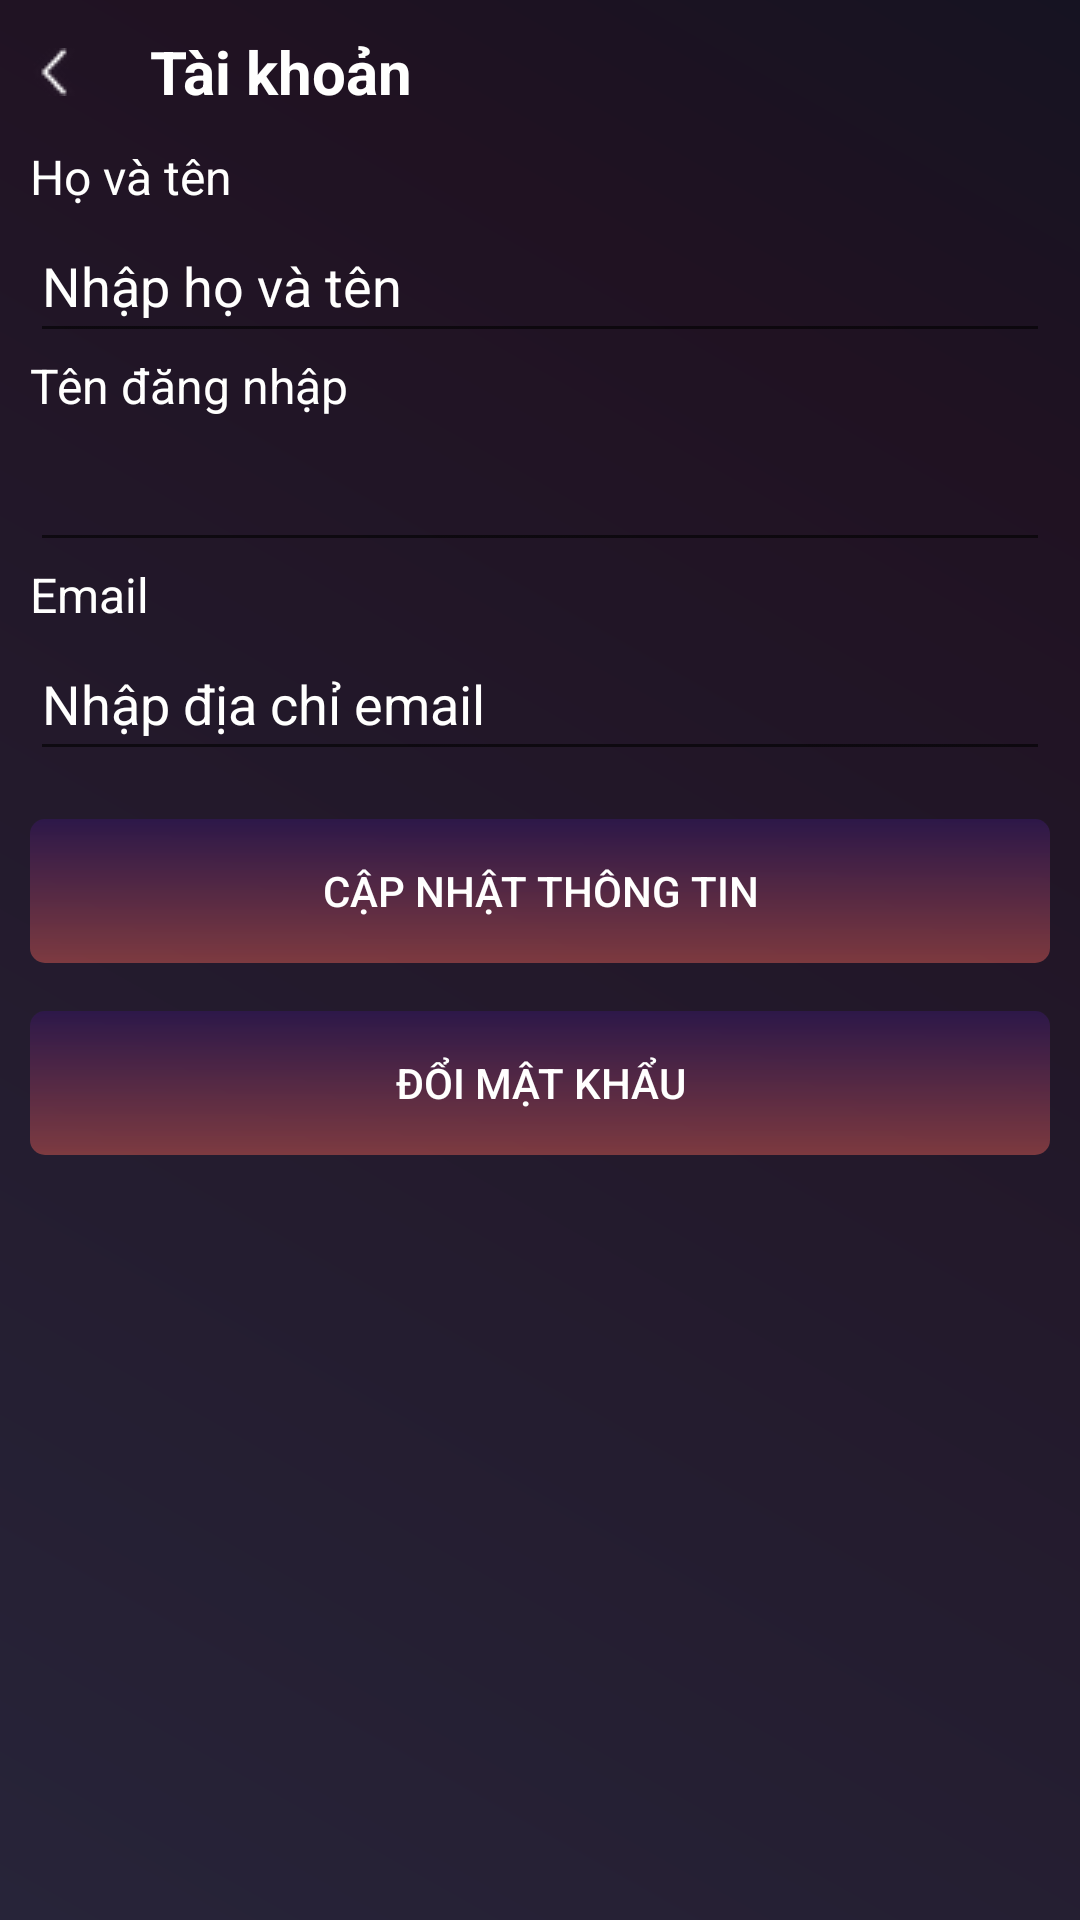

Where to tap for icons on this 1080x1920 app screen, as (x=x, y=y):
arrowleft: (x=54, y=72)
